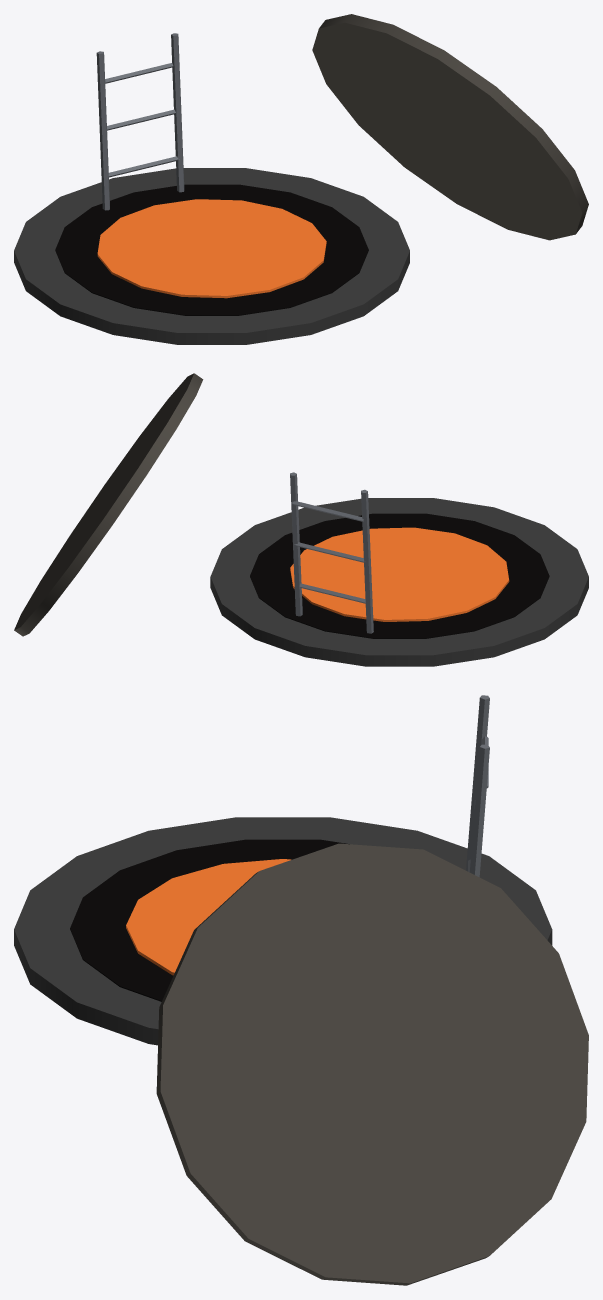
The model's file is manhole.glb.
3 views of the same model, one above another, from view 1: azimuth 30°, elevation 25°; view 2: azimuth 150°, elevation 25°; view 3: azimuth 270°, elevation 25° (orthographic). The views are drawn at different scales.
Parts seen in each view (by area): view 1: manhole; view 2: manhole; view 3: manhole.
Part boxes in pixels (x1,y1,x2,y2): manhole: [14, 14, 588, 344]; manhole: [14, 373, 588, 666]; manhole: [14, 695, 588, 1285].
Bounding box in the file's own units: 3.7 × 1.72 × 2.56.
